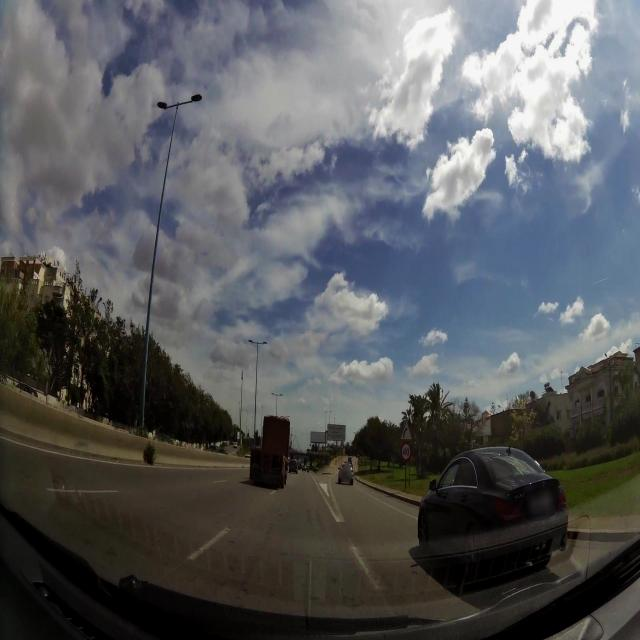car: (416, 444, 569, 588), (336, 462, 354, 485)
